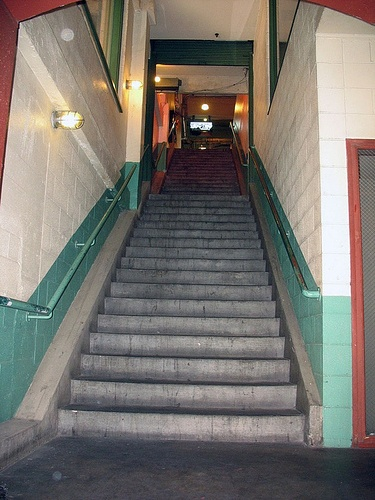stairs_up: (93, 197, 287, 442)
